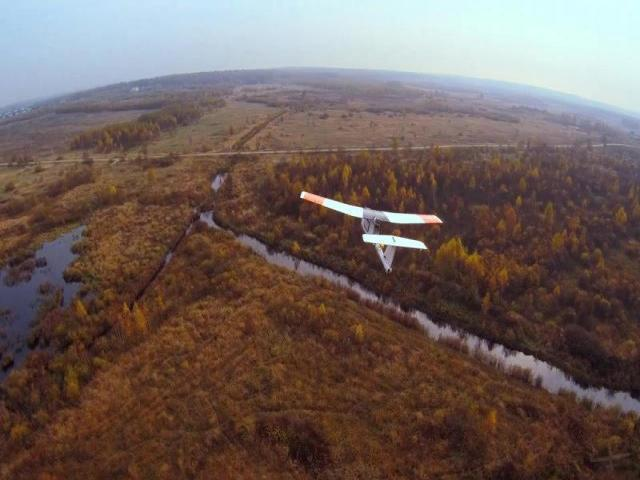hedef: (300, 178, 453, 283)
